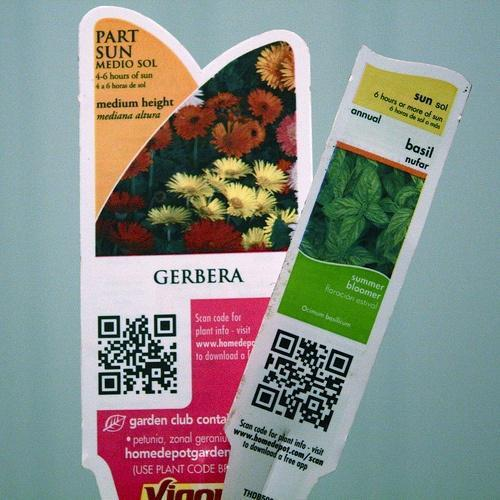qr_code: (251, 328, 354, 432), (98, 315, 178, 395)
